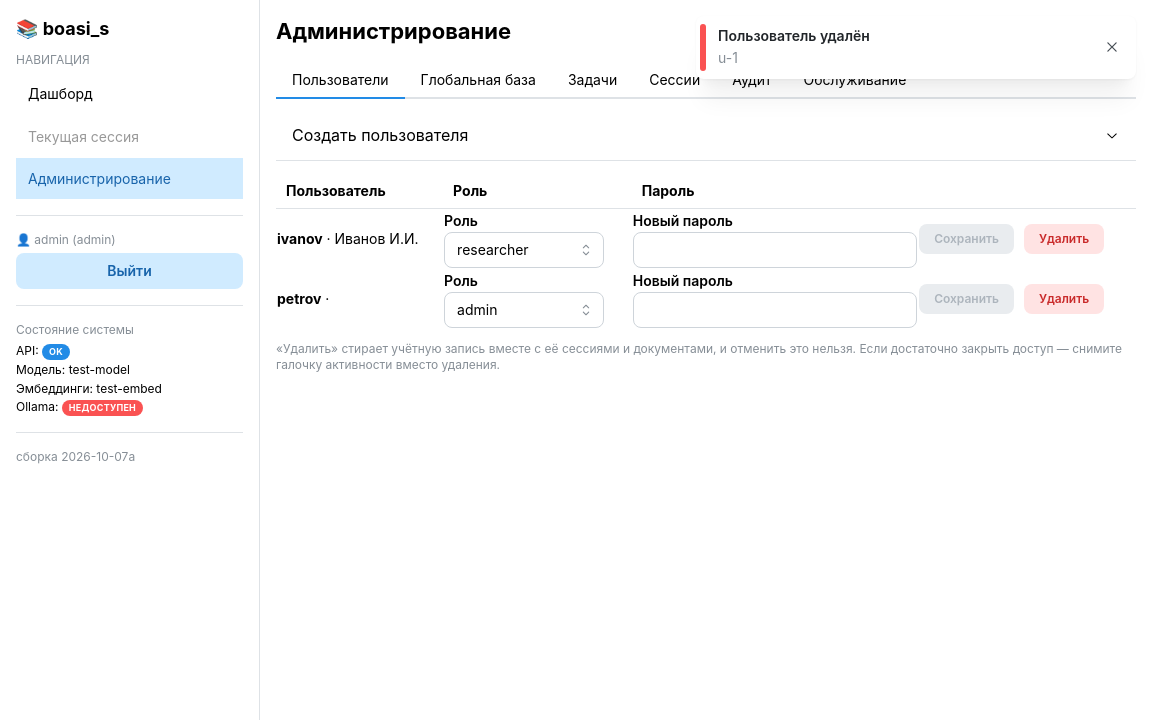
it: админка › удаление: ошибка 409 показывается в модалке
Expected: the text "ivanov" is shown, [277,230,323,247]
Click the button with aria-label "Удалить: ivanov" at (1064, 239), box [1024,224,1104,254]
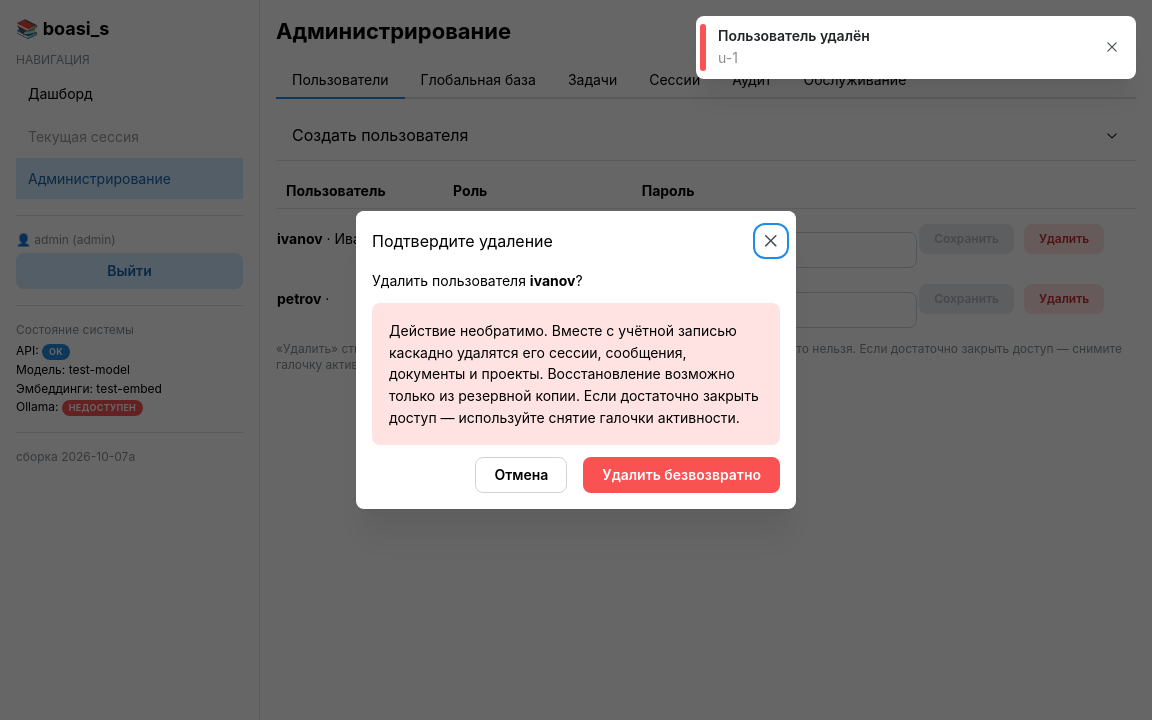
Click the button "Удалить безвозвратно" at (682, 475), box [583,457,780,493]
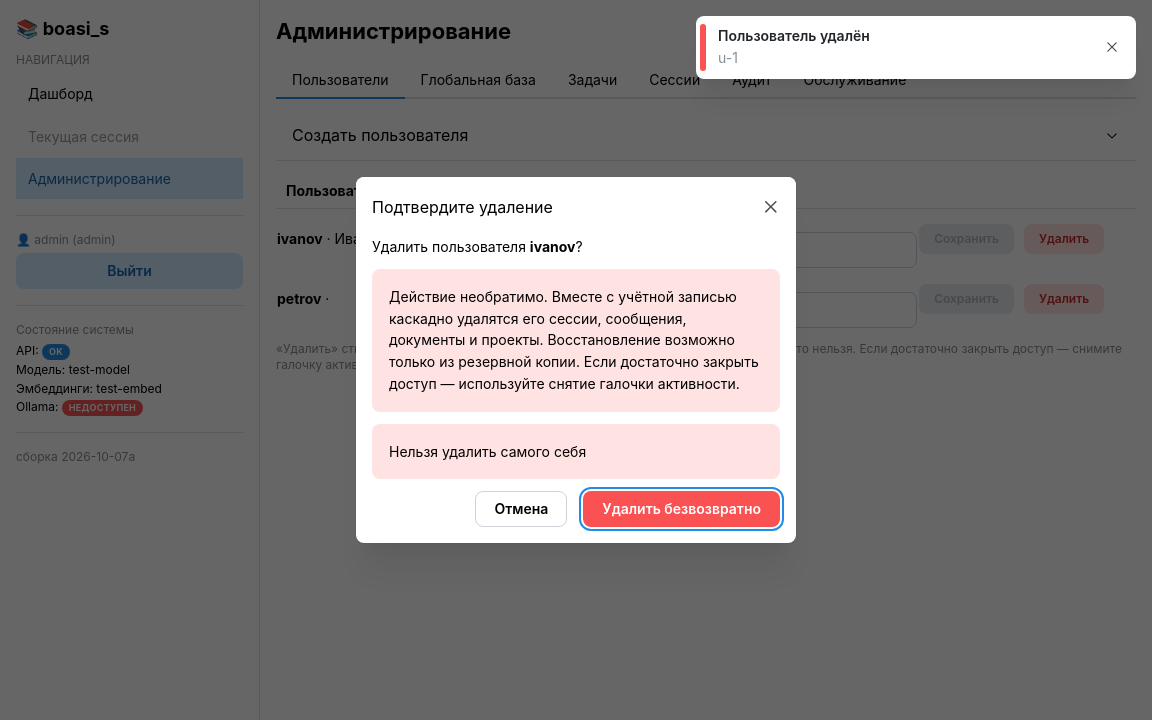
Expected: the text "Нельзя удалить самого себя" is shown, [389,442,586,460]
